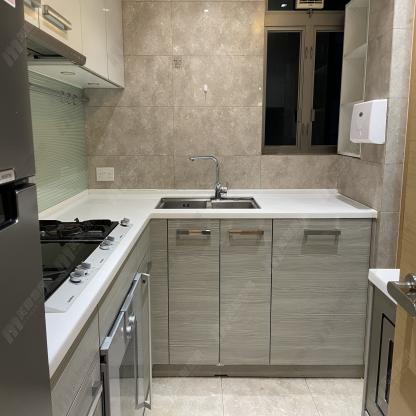Cupboard: (151, 219, 371, 364)
Exhaust Hood: (25, 16, 89, 67)
Faucet: (185, 156, 232, 200)
Sink: (158, 197, 260, 209)
Stove: (40, 219, 134, 314)
